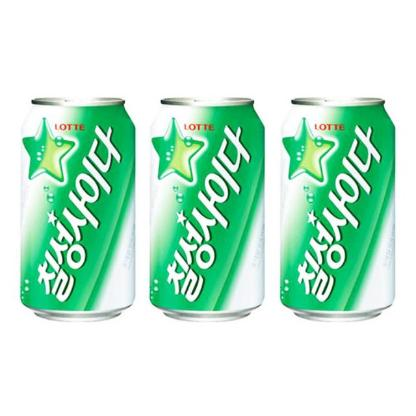Can: (148, 86, 268, 332), (275, 85, 393, 329), (19, 90, 142, 324)
